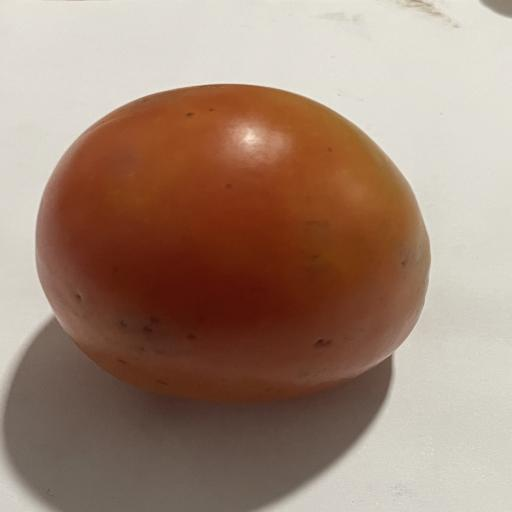ripe: (36, 84, 430, 402)
